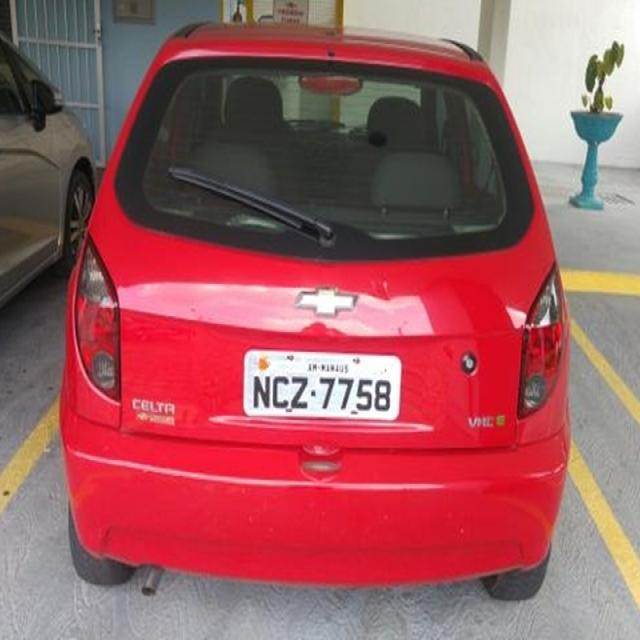Placa: (235, 344, 406, 425)
